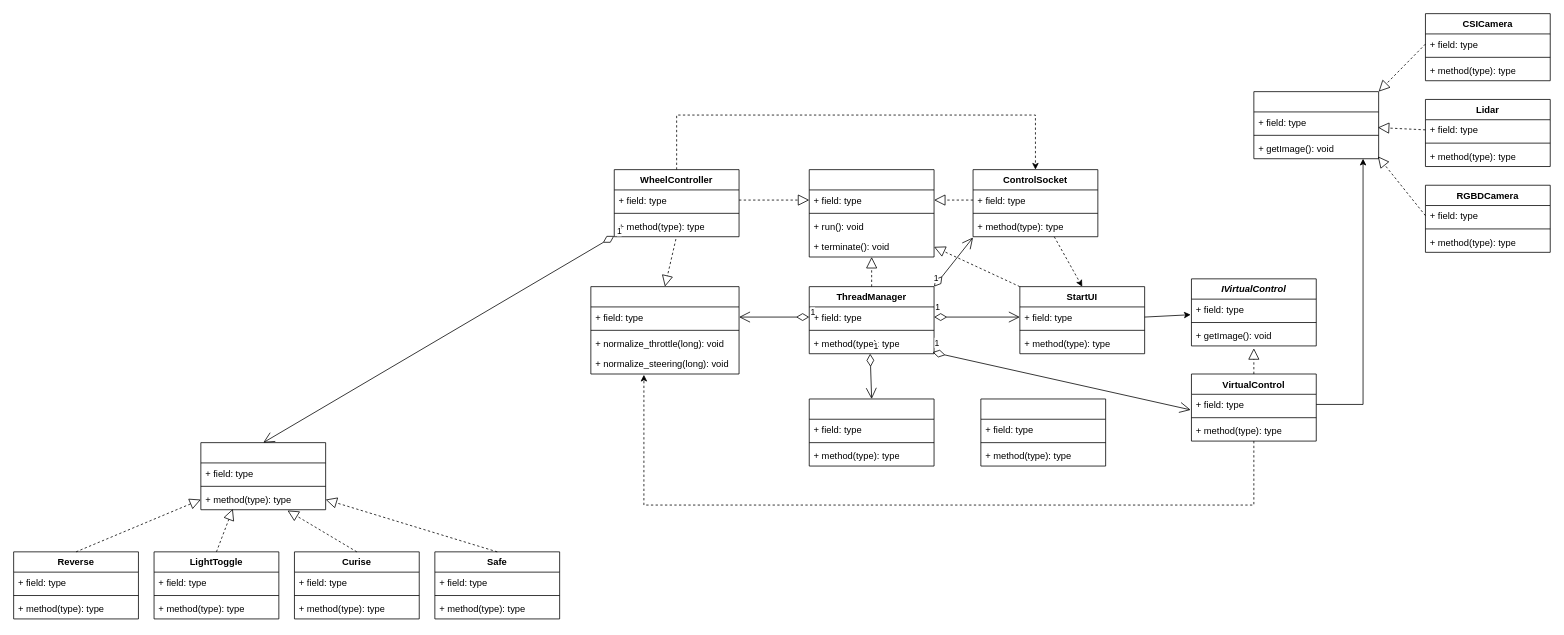
Some shapes in this 1564 by 635 pixel diagram are drawn without their labels. Each missing label, with the box of its shape:
Controller: (590, 286, 739, 374)
InitUI: (808, 398, 934, 466)
IVirtualSensor: (1253, 91, 1379, 159)
QCarStrategies: (200, 442, 326, 510)
ServicModule: (808, 169, 934, 257)
VedioSocket: (980, 398, 1106, 466)
